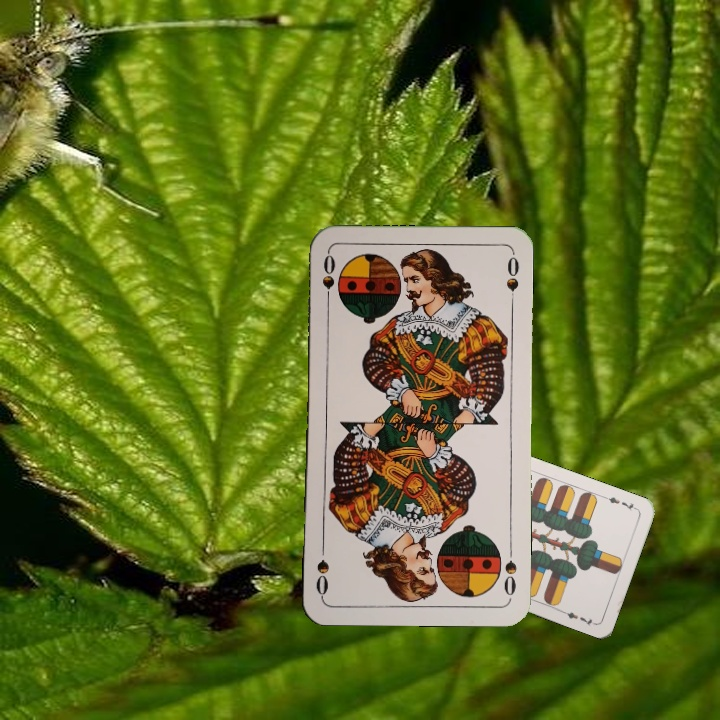E7: (601, 492, 640, 513)
SO: (319, 250, 338, 309), (499, 556, 519, 600)
